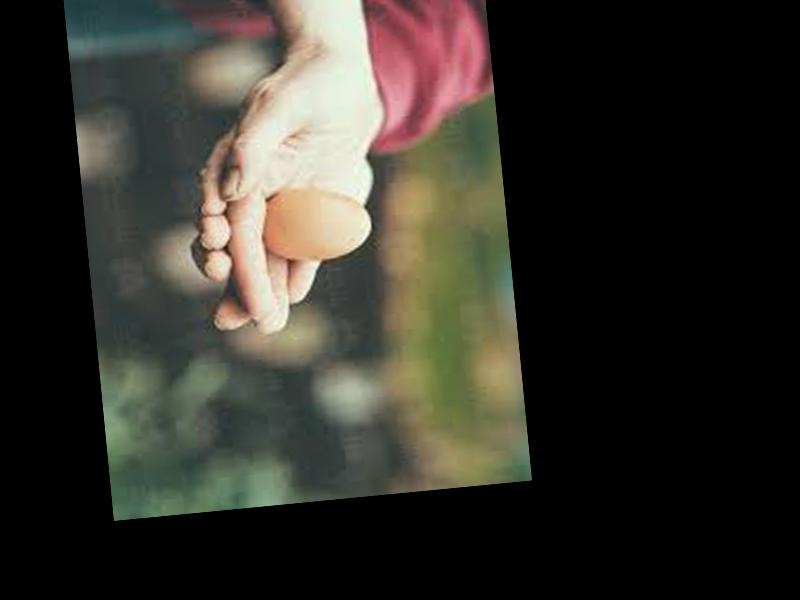Eggs: (261, 183, 373, 264)
